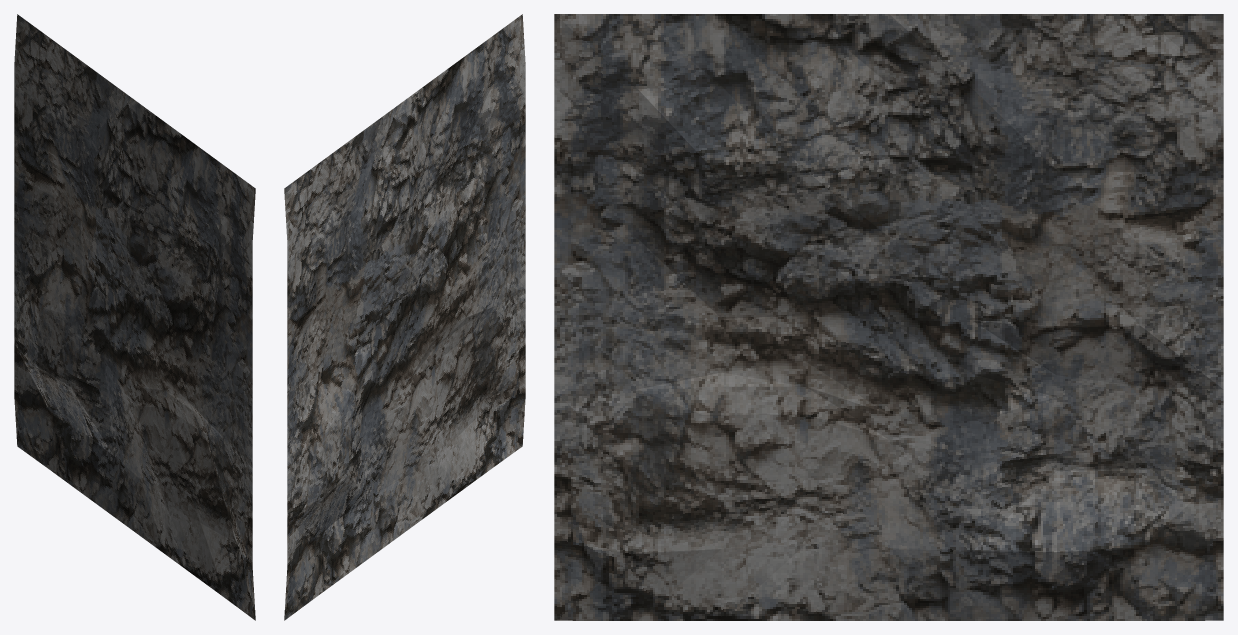
Rendered from 03_wall_01_seamless.glb.
3 renders of one model, left to right at view 1: azimuth 30°, elevation 25°; view 2: azimuth 150°, elevation 25°; view 3: azimuth 270°, elevation 25°, orthographic. The views are drawn at different scales.
Parts seen in each view (by area): view 1: 03_wall_01_seamless; view 2: 03_wall_01_seamless; view 3: 03_wall_01_seamless.
Part boxes in pixels (x1,y1,x2,y2): 03_wall_01_seamless: (14,14,255,620); 03_wall_01_seamless: (284,14,525,620); 03_wall_01_seamless: (554,14,1223,620).
Size of the model in its own units: 0.7633 by 16 by 16.
1 material, 1 textured.
